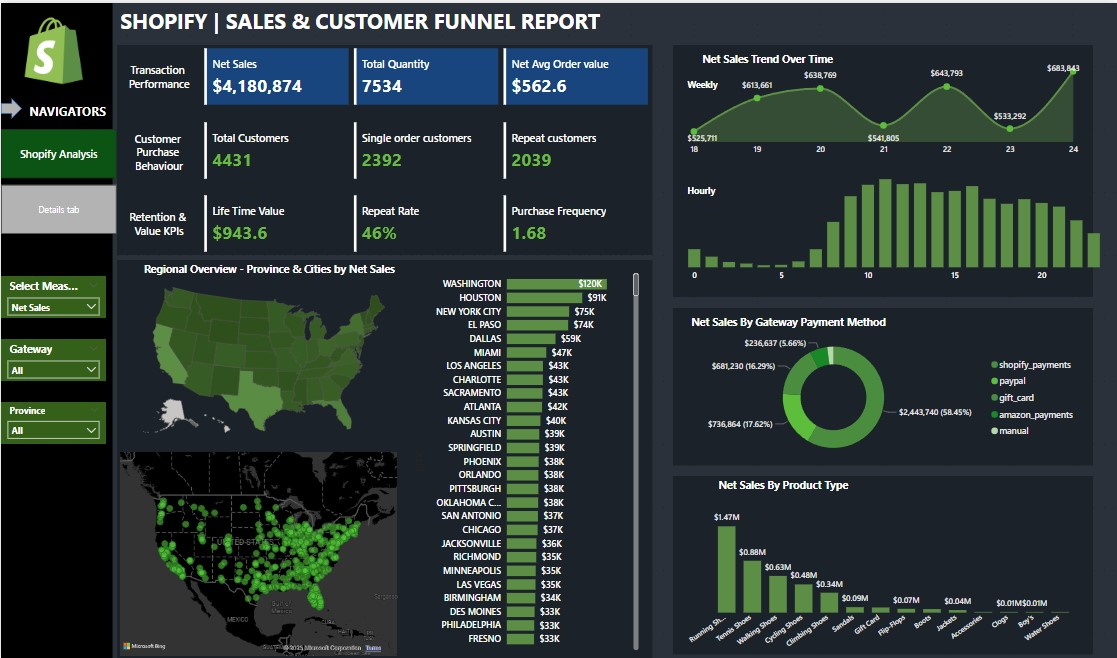

This screenshot's page, from the dashboard's own definition file:
{"tool":"powerbi","page":{"name":"Shopify Analysis","canvas":[1700,1000],"ordinal":0},"visuals":[{"type":"shape","box":[0,-8,170,1008],"z":0},{"type":"textbox","box":[176,0,752,64],"z":1000},{"type":"shape","box":[176,64,816,320],"z":2000},{"type":"cardVisual","fields":{"Data":["shopify_sales.net_sales","shopify_sales.total_quantity","shopify_sales.Net_avg_order_value"]},"box":[304,64,688,96],"z":3000},{"type":"card","fields":{"Values":["shopify_sales.transaction_performance"]},"box":[176,64,128,96],"z":4000},{"type":"card","fields":{"Values":["shopify_sales.Customer_purchase_beaviour"]},"box":[176,176,128,96],"z":5000},{"type":"card","fields":{"Values":["shopify_sales.Retention & Value KPIs"]},"box":[176,288,128,96],"z":6000},{"type":"cardVisual","fields":{"Data":["shopify_sales.total_customers","shopify_sales.single_order_customer","shopify_sales.Repeat_customers"]},"box":[304,176,688,96],"z":7000},{"type":"cardVisual","fields":{"Data":["shopify_sales.Life Time Value","shopify_sales.Repeat Rate","shopify_sales.Purchase Frequency"]},"box":[304,288,688,96],"z":8000},{"type":"shape","box":[176,392,816,608],"z":9000},{"type":"shapeMap","fields":{"Value":["shopify_sales.Net Sales"],"Category":["shopify_sales.Billing Address Province"]},"box":[176,416,448,256],"z":10000},{"type":"slicer","fields":{"Values":["Select Measure.Select Measure"]},"box":[0,416,160,64],"z":11000},{"type":"map","fields":{"Category":["shopify_sales.City_Location"]},"box":[176,680,432,320],"z":12000},{"type":"clusteredBarChart","fields":{"Category":["shopify_sales.CITY"],"Y":["shopify_sales.Net Sales"]},"box":[624,400,352,592],"z":12001},{"type":"card","fields":{"Values":["shopify_sales.Map Title"]},"box":[176,384,464,48],"z":12002},{"type":"shape","box":[1024,64,640,384],"z":12003},{"type":"areaChart","fields":{"Category":["shopify_sales.Invoice Date.Variation.Date Hierarchy.Day"],"Y":["shopify_sales.Net Sales"]},"box":[1040,80,608,160],"z":12004},{"type":"columnChart","fields":{"Category":["shopify_sales.Hour"],"Y":["shopify_sales.Net Sales"]},"box":[1040,240,640,192],"z":12005},{"type":"card","fields":{"Values":["shopify_sales.Trend Title"]},"box":[1024,64,288,48],"z":12006},{"type":"shape","box":[1024,464,640,240],"z":12007},{"type":"donutChart","fields":{"Category":["shopify_sales.Gateway"],"Y":["shopify_sales.Net Sales"]},"box":[1024,496,624,208],"z":12008},{"type":"card","fields":{"Values":["shopify_sales.Gateway Title"]},"box":[1024,464,352,48],"z":12009},{"type":"shape","box":[1024,720,640,272],"z":12010},{"type":"columnChart","fields":{"Y":["shopify_sales.Net Sales"],"Category":["shopify_sales.Product Type"]},"box":[1040,736,608,256],"z":12011},{"type":"card","fields":{"Values":["shopify_sales.Product Title"]},"box":[1024,720,336,32],"z":12012},{"type":"image","box":[0,16,160,112],"z":12013},{"type":"slicer","fields":{"Values":["shopify_sales.Gateway"]},"box":[0,512,160,64],"z":12014},{"type":"slicer","fields":{"Values":["shopify_sales.Billing Address Province"]},"box":[0,608,160,64],"z":12015},{"type":"textbox","box":[1040,112,80,32],"z":12016},{"type":"textbox","box":[1040,272,80,32],"z":12017}]}

Visuals, with their boxes on the page's 1700x1000 design canvas (x1, y1, x2, y2). These are canvas units, not pixel positions in the 1117x658 screenshot, which may show the page scaled, cropped or inside an application window:
shape: 0/-8/170/1000
textbox: 176/0/928/64
shape: 176/64/992/384
cardVisual - shopify_sales.net_sales x shopify_sales.total_quantity: 304/64/992/160
card - shopify_sales.transaction_performance: 176/64/304/160
card - shopify_sales.Customer_purchase_beaviour: 176/176/304/272
card - shopify_sales.Retention & Value KPIs: 176/288/304/384
cardVisual - shopify_sales.total_customers x shopify_sales.single_order_customer: 304/176/992/272
cardVisual - shopify_sales.Life Time Value x shopify_sales.Repeat Rate: 304/288/992/384
shape: 176/392/992/1000
shapeMap - shopify_sales.Net Sales x shopify_sales.Billing Address Province: 176/416/624/672
slicer - Select Measure.Select Measure: 0/416/160/480
map - shopify_sales.City_Location: 176/680/608/1000
clusteredBarChart - shopify_sales.CITY x shopify_sales.Net Sales: 624/400/976/992
card - shopify_sales.Map Title: 176/384/640/432
shape: 1024/64/1664/448
areaChart - shopify_sales.Invoice Date.Variation.Date Hierarchy.Day x shopify_sales.Net Sales: 1040/80/1648/240
columnChart - shopify_sales.Hour x shopify_sales.Net Sales: 1040/240/1680/432
card - shopify_sales.Trend Title: 1024/64/1312/112
shape: 1024/464/1664/704
donutChart - shopify_sales.Gateway x shopify_sales.Net Sales: 1024/496/1648/704
card - shopify_sales.Gateway Title: 1024/464/1376/512
shape: 1024/720/1664/992
columnChart - shopify_sales.Net Sales x shopify_sales.Product Type: 1040/736/1648/992
card - shopify_sales.Product Title: 1024/720/1360/752
image: 0/16/160/128
slicer - shopify_sales.Gateway: 0/512/160/576
slicer - shopify_sales.Billing Address Province: 0/608/160/672
textbox: 1040/112/1120/144
textbox: 1040/272/1120/304
